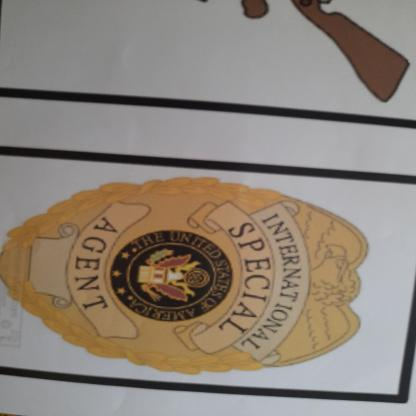G-man: (3, 152, 394, 392)
